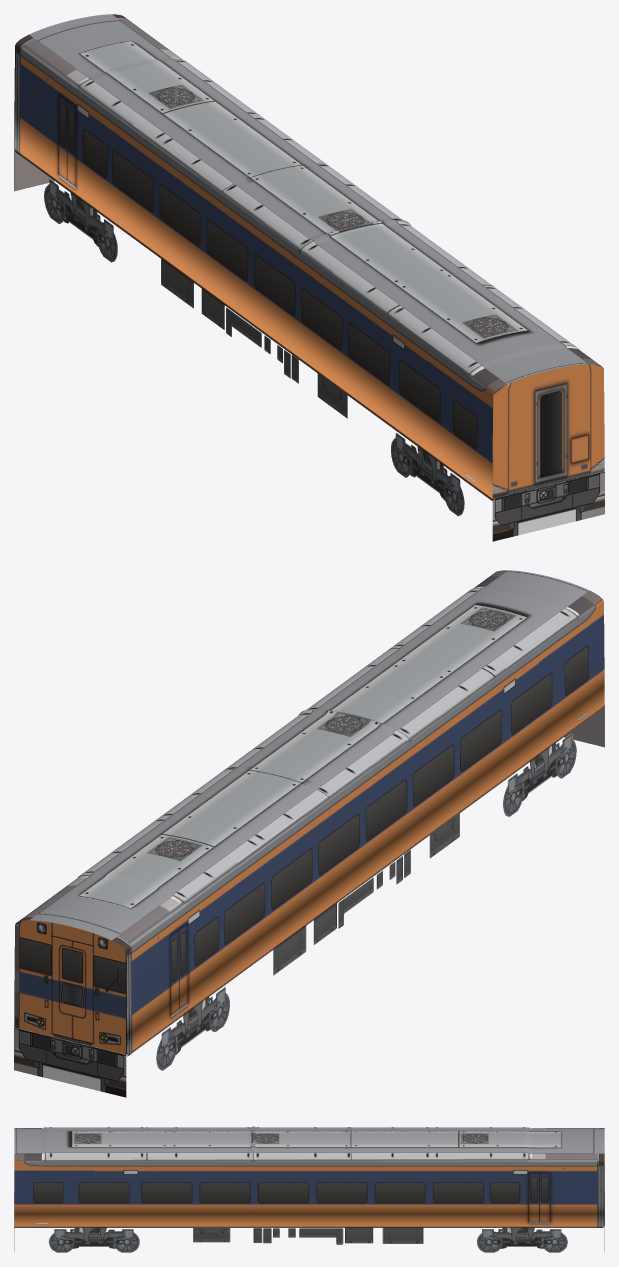
The model's file is car2.glb.
3 views of the same model, one above another, from view 1: azimuth 30°, elevation 25°; view 2: azimuth 150°, elevation 25°; view 3: azimuth 270°, elevation 25° (orthographic). The views are drawn at different scales.
Visible parts, largest first — view 1: kintetsu-12410-car2; view 2: kintetsu-12410-car2; view 3: kintetsu-12410-car2.
Part boxes in pixels (x1,y1,x2,y2): kintetsu-12410-car2: [14, 14, 604, 541]; kintetsu-12410-car2: [14, 570, 604, 1097]; kintetsu-12410-car2: [14, 1126, 604, 1252].
Bounding box in the file's own units: 2.8 × 3.81 × 20.7.
Materials: 8 (7 with a texture image).
